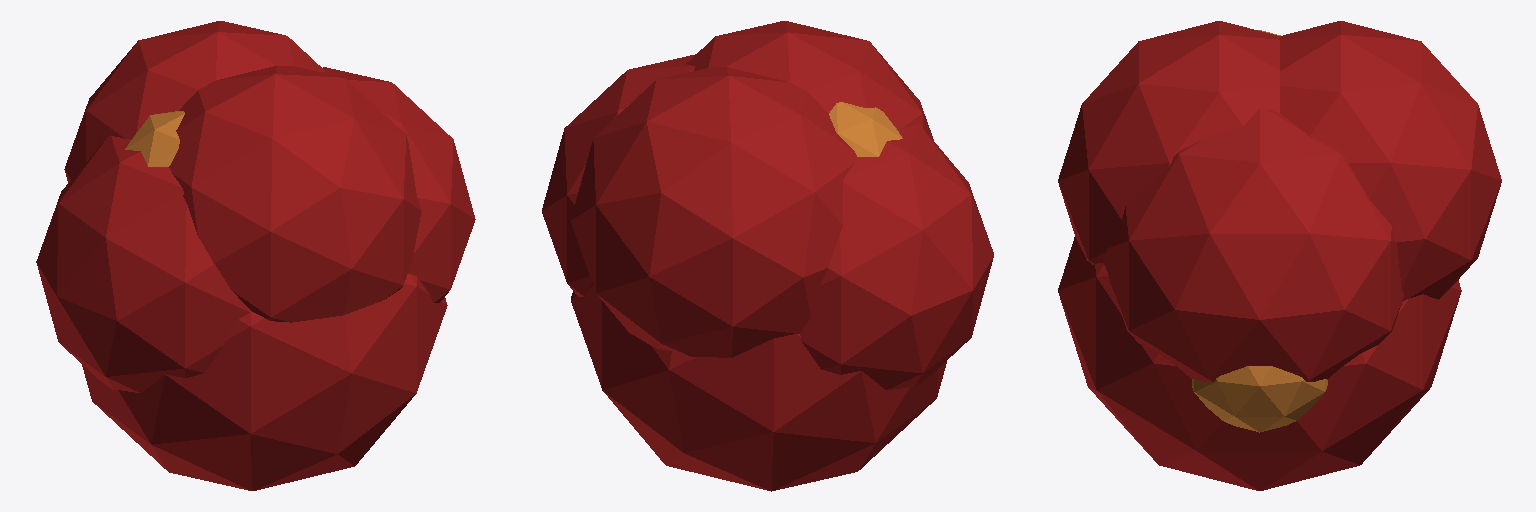
robot.urdf — fried-chicken:
<?xml version="1.0"?>
<robot name="fried-chicken"
       xmlns:xi="http://www.w3.org/2001/XInclude">
  <gazebo>
    <static>false</static>
  </gazebo>
  <link name="nil_link">
    <visual>
      <origin xyz="0 0 0" rpy="0 -0 0"/>
      <geometry>
        <mesh filename="model://fried-chicken/meshes/nil_link_mesh.dae" scale="1 1 1" />
      </geometry>
    </visual>
    <collision>
      <origin xyz="0 0 0" rpy="0 -0 0"/>
      <geometry>
        <mesh filename="model://fried-chicken/meshes/nil_link_mesh.dae" scale="1 1 1" />
      </geometry>
    </collision>
    <inertial>
      <mass value="0.001" />
      <origin xyz="0 0 0" rpy="0 -0 0"/>
      <inertia ixx="1e-03" ixy="0" ixz="0" iyy="1e-03" iyz="0" izz="1e-03"/>
    </inertial>
  </link>
  <gazebo reference="nil_link">
    <mu1>0.9</mu1>
    <mu2>0.9</mu2>
  </gazebo>
</robot>

--- Render facts (derived) ---
The picture shows the robot from 3 angles, left to right: view 1: azimuth 30°, elevation 25°; view 2: azimuth 150°, elevation 25°; view 3: azimuth 270°, elevation 25°; orthographic projection.
Robot: fried-chicken — 1 links, 0 joints (none); root link nil_link; default pose: all joints at 0.
Links seen in each view (by area): view 1: nil_link; view 2: nil_link; view 3: nil_link.
Boxes of the visible links, x1=… form: nil_link: x1=36, y1=21, x2=475, y2=490; nil_link: x1=542, y1=21, x2=993, y2=491; nil_link: x1=1058, y1=21, x2=1501, y2=490.
Size in the robot's own frame: 0.06 by 0.055 by 0.06 metres.
Meshes: 1 distinct files referenced, 1 mesh visuals loaded (1 Collada DAE).